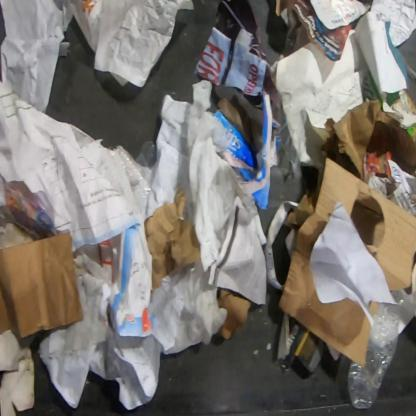cardboard: (277, 155, 415, 367), (0, 231, 85, 341), (211, 84, 283, 212), (0, 329, 37, 415), (0, 221, 35, 248), (367, 301, 381, 316)
rigid_plastic: (346, 290, 409, 411)
soft_plastic: (106, 140, 158, 216)
